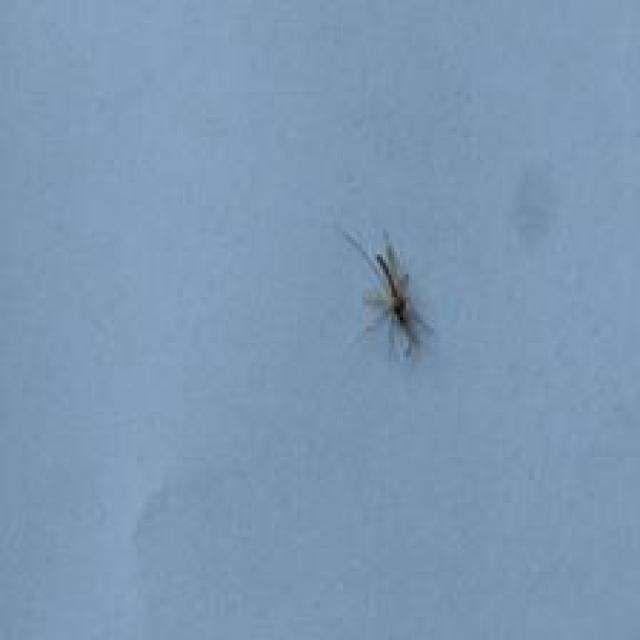Culex: (338, 226, 436, 363)
